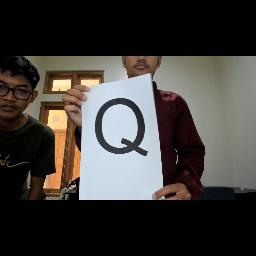q: (92, 96, 154, 162)
